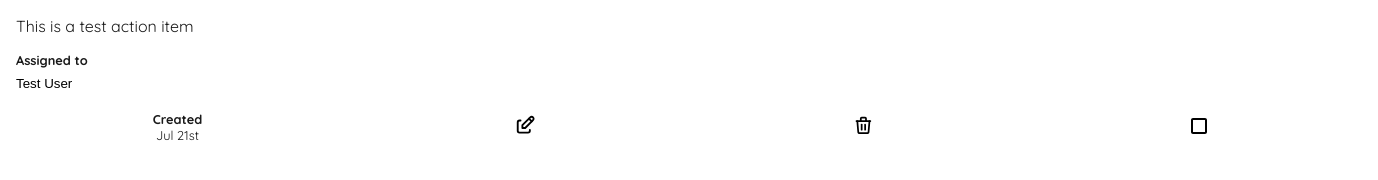
Scenario: ActionItemCard › Edit functionality › should reset textarea value to original message when re-entering edit mode after canceling
Click the button named "edit" at (525, 127), box [355,107,695,147]
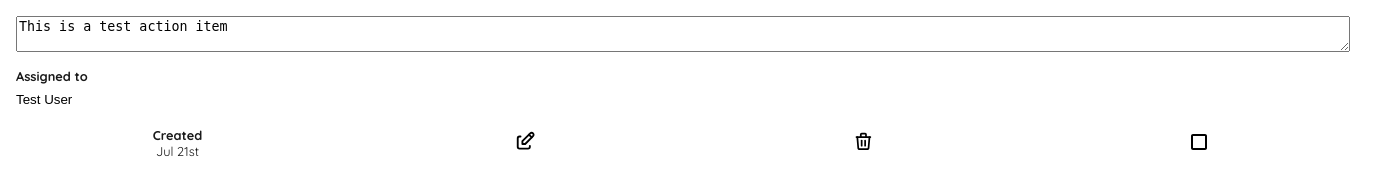
Replace the text in the text box with "Changed but not submitted" at (683, 34), box [16,16,1350,52]
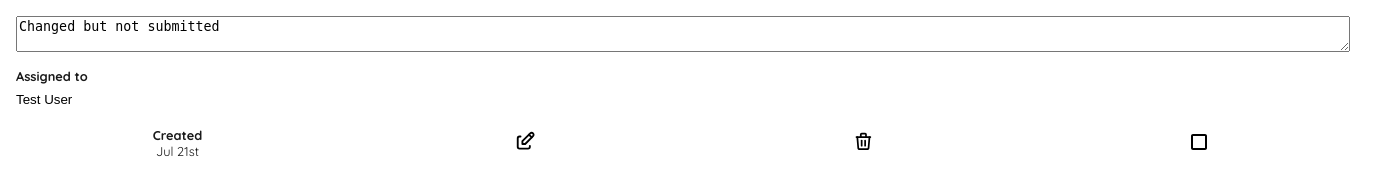
Click the button named "edit" at (525, 143), box [355,123,695,163]
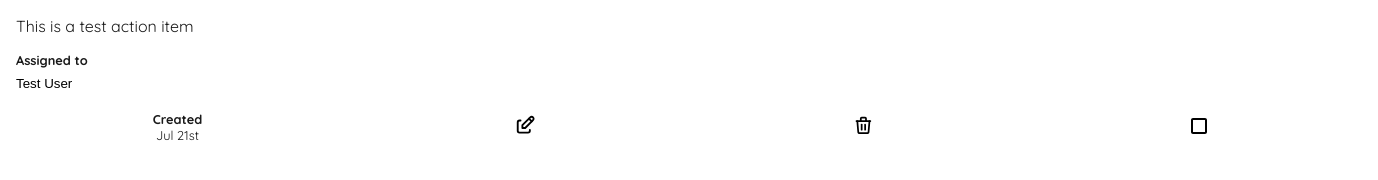
Click the button named "edit" at (525, 127), box [355,107,695,147]
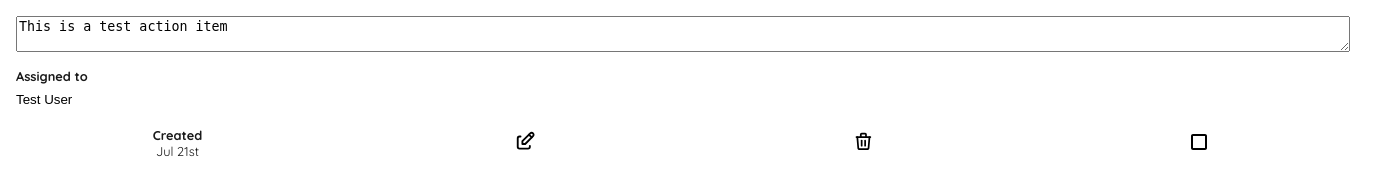
expect the text box holds "This is a test action item": met, box [16,16,1350,52]
